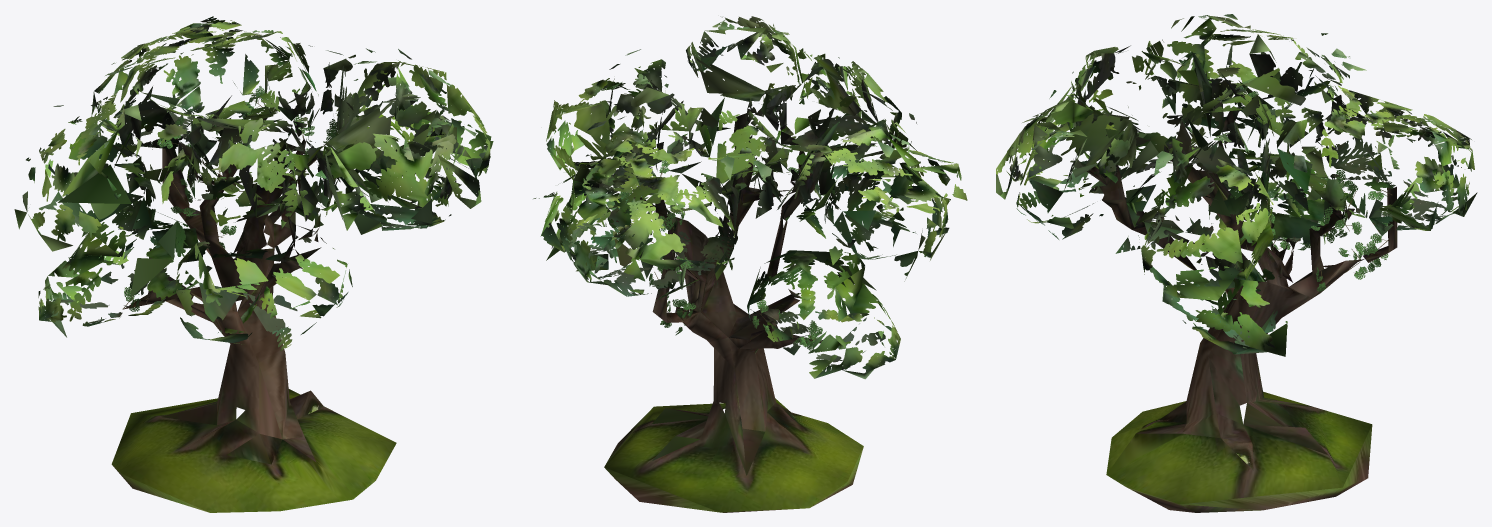
Rendered from tree-1459-far.glb.
The picture shows the model from 3 angles, left to right: view 1: azimuth 30°, elevation 25°; view 2: azimuth 150°, elevation 25°; view 3: azimuth 270°, elevation 25°; orthographic projection. The views are drawn at different scales.
Visible parts, largest first — view 1: Foliage, Wood; view 2: Foliage, Wood; view 3: Foliage, Wood.
Boxes of the visible parts, x1=… form: Foliage: x1=14, y1=16, x2=493, y2=350; Wood: x1=111, y1=109, x2=396, y2=512; Foliage: x1=533, y1=16, x2=967, y2=379; Wood: x1=604, y1=113, x2=863, y2=512; Foliage: x1=996, y1=14, x2=1477, y2=356; Wood: x1=1086, y1=107, x2=1397, y2=512.
Bounding box in the file's own units: 13 × 11.87 × 12.81.
2 materials, 2 textured.
